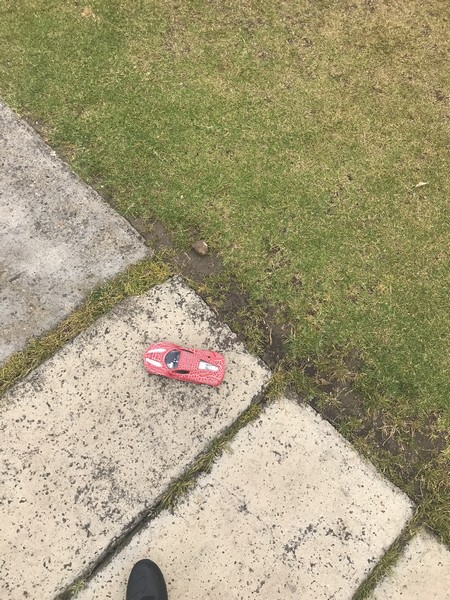RC: (143, 341, 228, 387)
